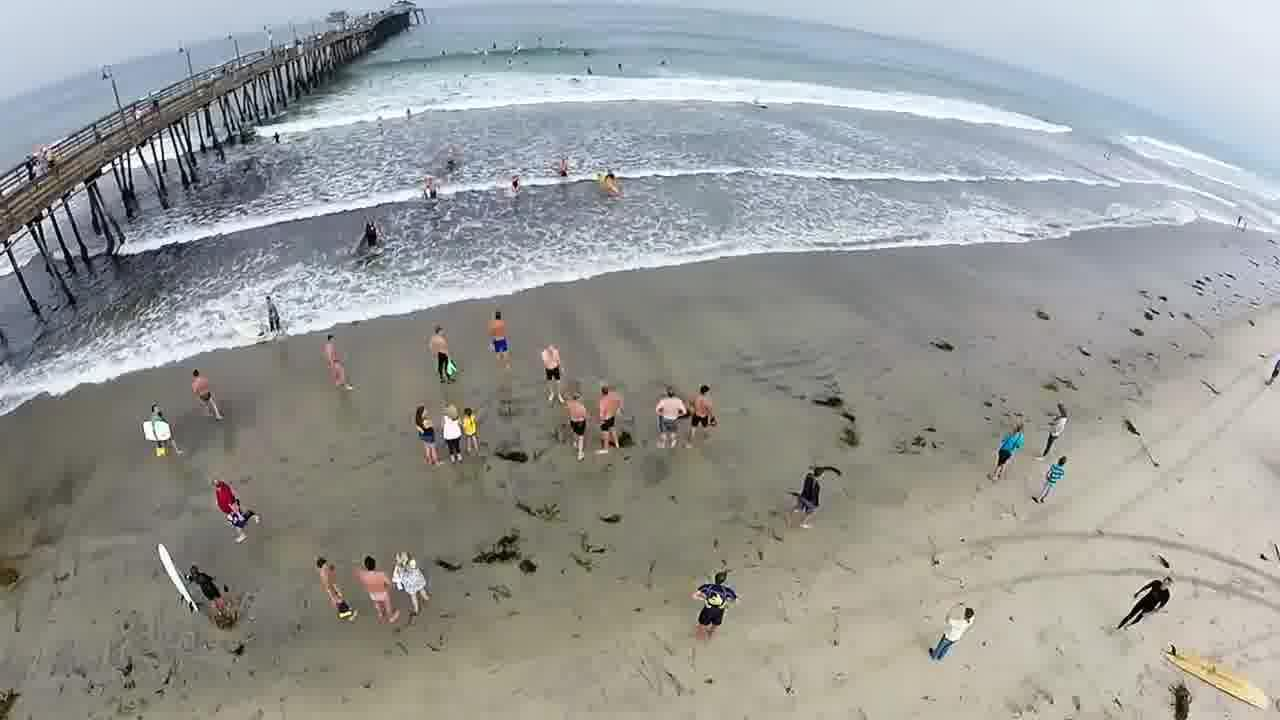human: (253, 281, 287, 326), (409, 174, 452, 207), (353, 209, 383, 252), (505, 166, 530, 200)
